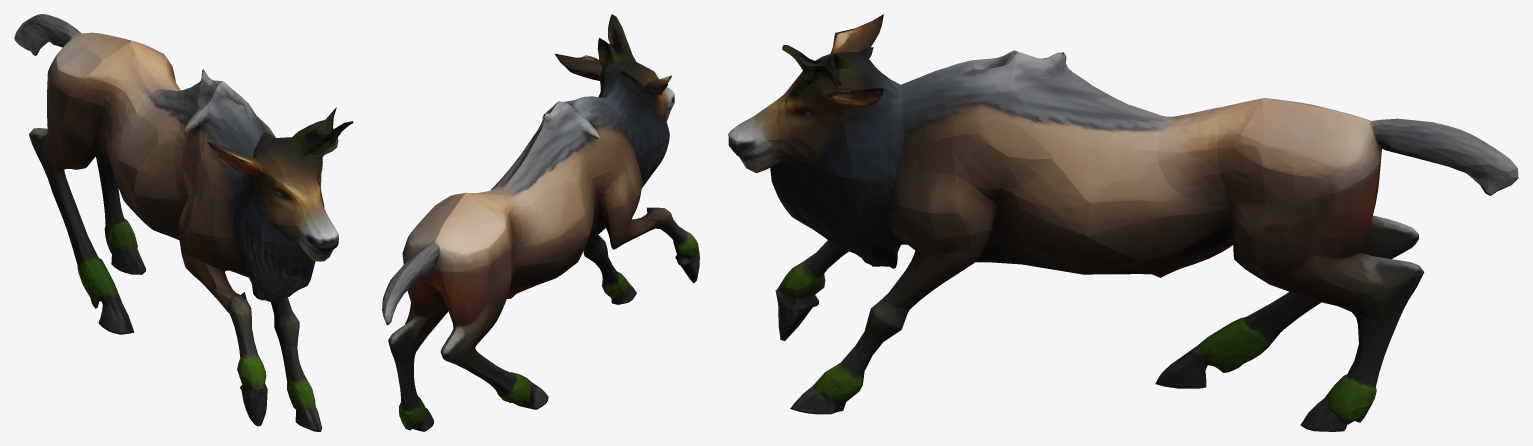
Rendered from moss_antler_stag.glb.
The picture shows the model from 3 angles, left to right: view 1: azimuth 30°, elevation 25°; view 2: azimuth 150°, elevation 25°; view 3: azimuth 270°, elevation 25°; orthographic projection. The views are drawn at different scales.
Visible parts, largest first — view 1: geometry_0; view 2: geometry_0; view 3: geometry_0.
Part boxes in pixels (x1=…): geometry_0: x1=14, y1=14, x2=353, y2=431; geometry_0: x1=382, y1=14, x2=699, y2=431; geometry_0: x1=728, y1=14, x2=1518, y2=431.
Bounding box in the file's own units: 0.2351 × 0.5296 × 0.9986.
1 material, 1 textured.
